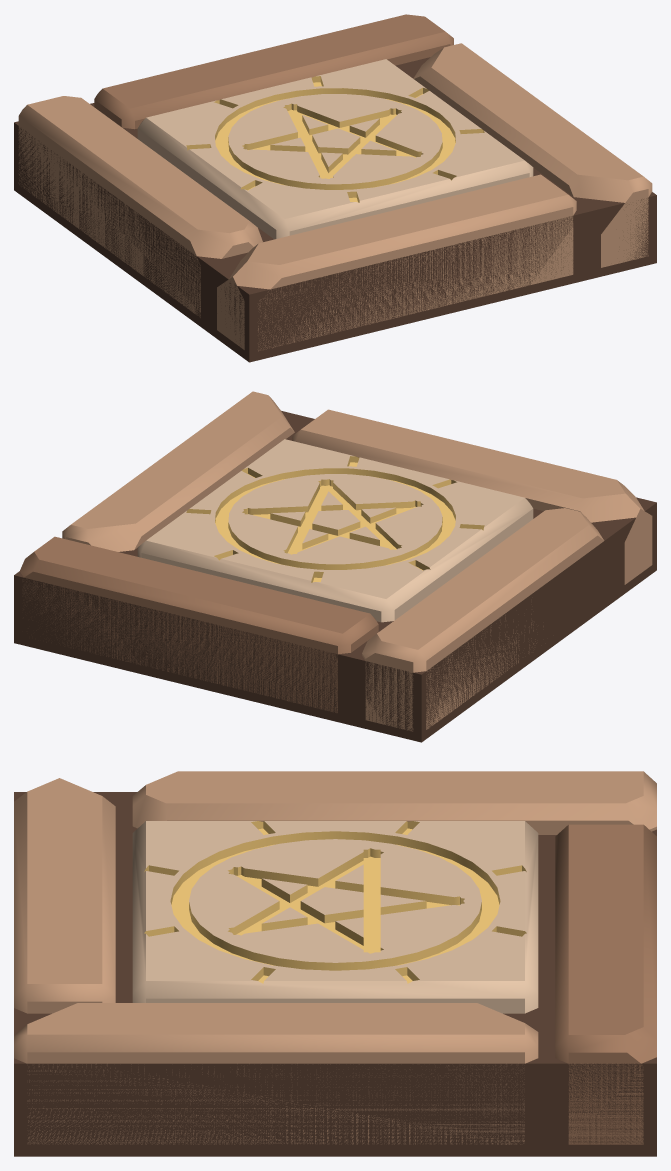
File: floor_rune__upper.glb
The picture shows the model from 3 angles, top to bottom: view 1: azimuth 30°, elevation 25°; view 2: azimuth 150°, elevation 25°; view 3: azimuth 270°, elevation 25°; orthographic projection. The views are drawn at different scales.
Parts seen in each view (by area): view 1: floor_rune; view 2: floor_rune; view 3: floor_rune.
Part boxes in pixels (<box>): floor_rune: <box>14,14,656,362</box>; floor_rune: <box>14,391,656,742</box>; floor_rune: <box>14,771,656,1156</box>.
Bounding box in the file's own units: 0.974 × 0.2 × 0.974.
